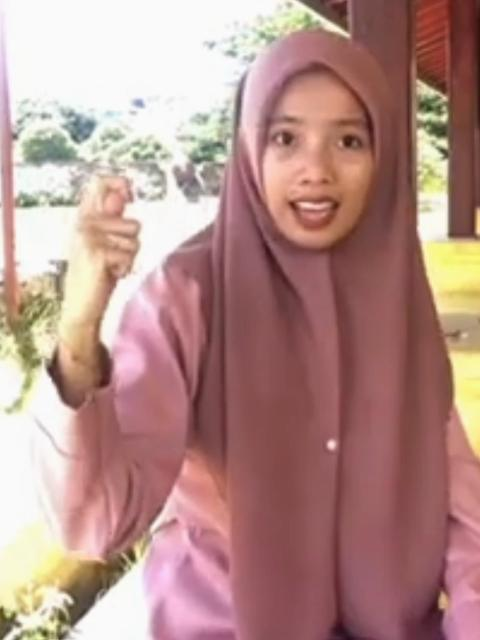T: (64, 172, 144, 320)
